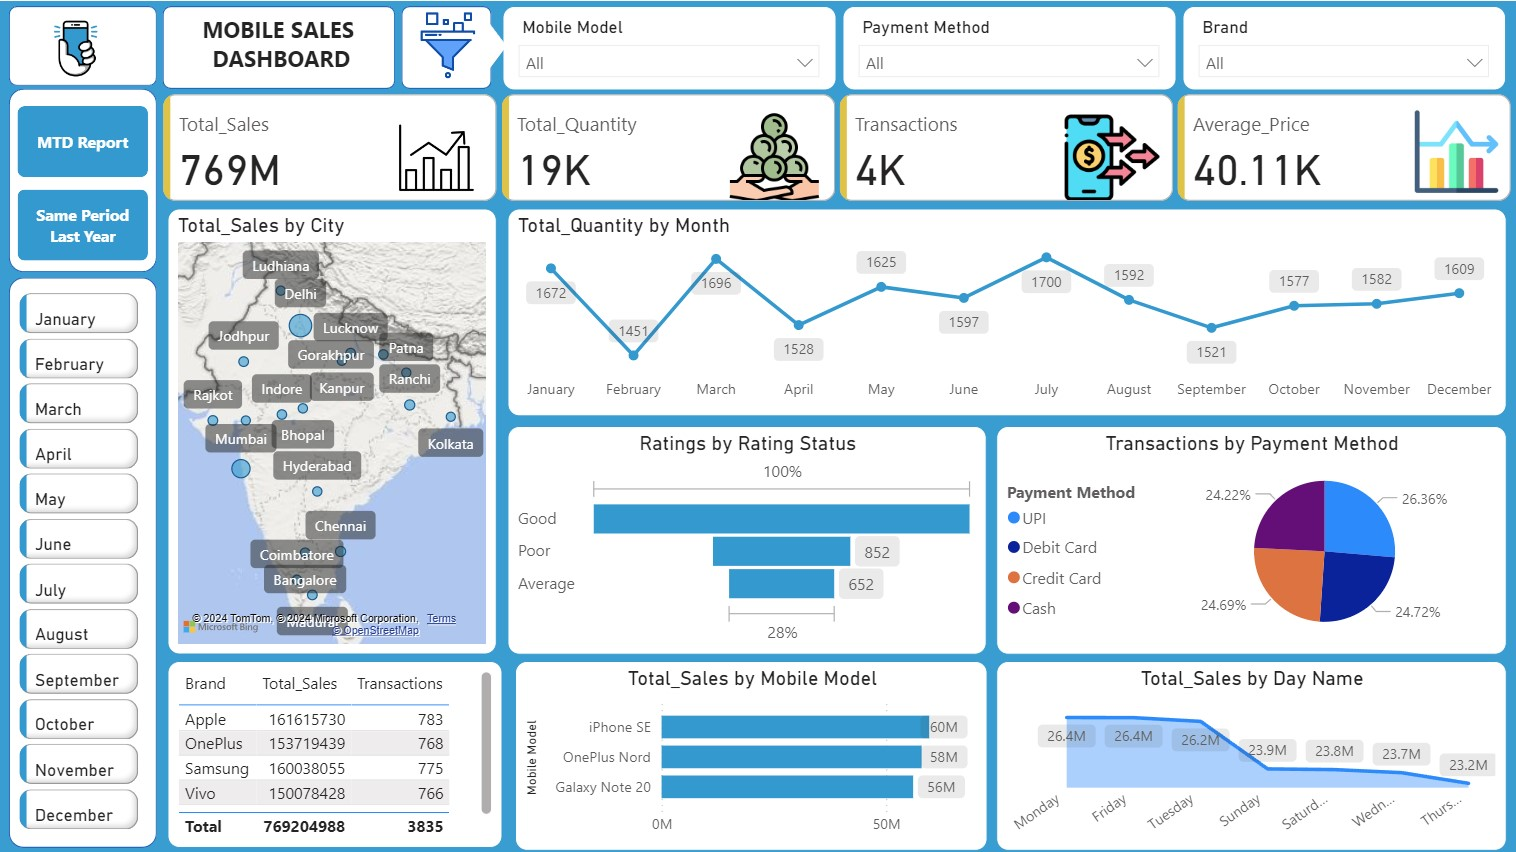

What the dashboard file says about the page in this screenshot:
{"tool":"powerbi","page":{"name":"Dashboard","canvas":[1400,850],"ordinal":0},"visuals":[{"type":"shape","box":[16.6,3,140.4,82.7],"z":0,"group":"g2"},{"type":"group","id":"g1","title":"Group 3","box":[478.8,9.6,91.2,82.7],"z":0,"group":"g4"},{"type":"shape","box":[17.3,92.3,138.5,188.5],"z":0},{"type":"group","id":"g2","title":"Group 1","box":[16.6,3,140.4,82.7],"z":1000},{"type":"image","box":[28.9,21.2,111.5,61.5],"z":1000,"group":"g2"},{"type":"shape","box":[553.8,36.5,28.8,40.4],"z":1000,"group":"g4"},{"type":"cardVisual","fields":{"Data":["Sales Data.Total Sales","Sales Data.Total Quantity","Sales Data.Transactions","Avg(Sales Data.Price Per Unit)"]},"box":[173.1,94.2,1213.5,109.6],"z":2000},{"type":"shape","box":[13.3,286.5,137.7,557.5],"z":2000,"group":"g3"},{"type":"group","id":"g3","title":"Group 2","box":[13.3,286.5,138.5,557.7],"z":3000},{"type":"slicer","fields":{"Values":["Sales Data.Mobile Model"]},"box":[582.7,9.6,263.5,82.7],"z":4000},{"type":"advancedSlicerVisual","fields":{"Values":["Custom calendor.Date.Variation.Date Hierarchy.Month"]},"box":[17.1,292.3,128.8,550],"z":4000,"group":"g3"},{"type":"slicer","fields":{"Values":["Sales Data.Payment Method"]},"box":[851.9,9.6,263.5,82.7],"z":5000},{"type":"shape","box":[478.8,9.6,91.2,82.7],"z":6000,"group":"g1"},{"type":"slicer","fields":{"Values":["Sales Data.Brand"]},"box":[1123.1,9.6,263.5,82.7],"z":6000},{"type":"group","id":"g4","title":"Group 4","box":[478.8,9.6,103.8,82.7],"z":7000},{"type":"shape","box":[171.2,9.6,303.8,82],"z":8000},{"type":"image","box":[486.5,11.5,73.1,76.9],"z":8000,"group":"g1"},{"type":"map","fields":{"Category":["Sales Data.City"],"Size":["Sales Data.Total Sales"]},"box":[171.2,203.8,319.2,384.6],"z":9000},{"type":"lineChart","fields":{"Y":["Sales Data.Total Quantity"],"Category":["Custom calendor.Date.Variation.Date Hierarchy.Month"]},"box":[505.8,201.9,882.7,169.2],"z":10000},{"type":"funnel","title":"Ratings by Rating Status","fields":{"Category":["Sales Data.Rating Status"],"Y":["CountNonNull(Sales Data.Customer Ratings)"]},"box":[500,384.6,378.8,201.9],"z":11000},{"type":"pieChart","fields":{"Category":["Sales Data.Payment Method"],"Y":["Sales Data.Transactions"]},"box":[896.2,384.6,490.4,201.9],"z":12000},{"type":"areaChart","fields":{"Y":["Sales Data.Total Sales"],"Category":["Custom calendor.Day Name"]},"box":[896.2,594.2,490.4,248.1],"z":13000},{"type":"clusteredBarChart","fields":{"Y":["Sales Data.Total Sales"],"Category":["Sales Data.Mobile Model"]},"box":[500,596.2,378.8,246.2],"z":14000},{"type":"tableEx","fields":{"Values":["Sales Data.Brand","Sales Data.Total Sales","Sales Data.Transactions"]},"box":[171.2,596.2,321.2,246.2],"z":15000},{"type":"pageNavigator","box":[13.5,92.3,134.6,182.7],"z":15001}]}

Visuals, with their boxes on the page's 1400x850 design canvas (x1, y1, x2, y2). These are canvas units, not pixel positions in the 1516x852 screenshot, which may show the page scaled, cropped or inside an application window:
shape: <region>17, 3, 157, 86</region>
"Group 3" group: <region>479, 10, 570, 92</region>
shape: <region>17, 92, 156, 281</region>
"Group 1" group: <region>17, 3, 157, 86</region>
image: <region>29, 21, 140, 83</region>
shape: <region>554, 36, 583, 77</region>
cardVisual - Sales Data.Total Sales x Sales Data.Total Quantity: <region>173, 94, 1387, 204</region>
shape: <region>13, 286, 151, 844</region>
"Group 2" group: <region>13, 286, 152, 844</region>
slicer - Sales Data.Mobile Model: <region>583, 10, 846, 92</region>
advancedSlicerVisual - Custom calendor.Date.Variation.Date Hierarchy.Month: <region>17, 292, 146, 842</region>
slicer - Sales Data.Payment Method: <region>852, 10, 1115, 92</region>
shape: <region>479, 10, 570, 92</region>
slicer - Sales Data.Brand: <region>1123, 10, 1387, 92</region>
"Group 4" group: <region>479, 10, 583, 92</region>
shape: <region>171, 10, 475, 92</region>
image: <region>486, 12, 560, 88</region>
map - Sales Data.City x Sales Data.Total Sales: <region>171, 204, 490, 588</region>
lineChart - Sales Data.Total Quantity x Custom calendor.Date.Variation.Date Hierarchy.Month: <region>506, 202, 1388, 371</region>
"Ratings by Rating Status" funnel: <region>500, 385, 879, 586</region>
pieChart - Sales Data.Payment Method x Sales Data.Transactions: <region>896, 385, 1387, 586</region>
areaChart - Sales Data.Total Sales x Custom calendor.Day Name: <region>896, 594, 1387, 842</region>
clusteredBarChart - Sales Data.Total Sales x Sales Data.Mobile Model: <region>500, 596, 879, 842</region>
tableEx - Sales Data.Brand x Sales Data.Total Sales: <region>171, 596, 492, 842</region>
pageNavigator: <region>14, 92, 148, 275</region>
